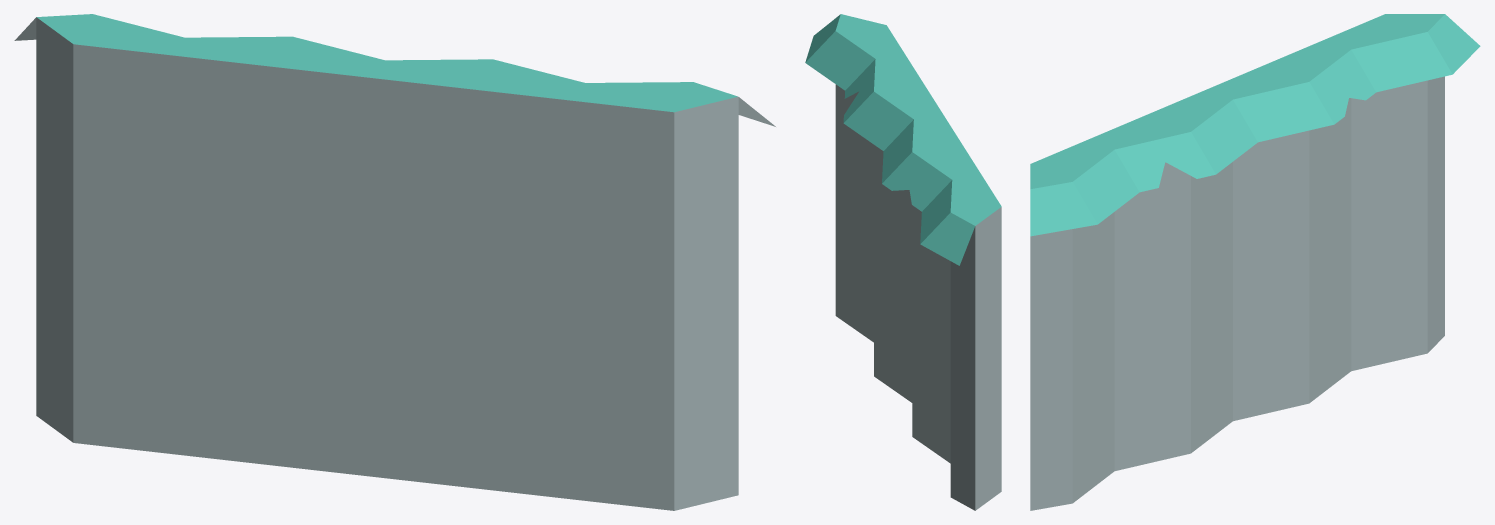
File: cliff_topDiagonal_stone.glb
3 renders of one model, left to right at view 1: azimuth 30°, elevation 25°; view 2: azimuth 150°, elevation 25°; view 3: azimuth 270°, elevation 25°, orthographic. The views are drawn at different scales.
Parts seen in each view (by area): view 1: cliff_topDiagonal_stone; view 2: cliff_topDiagonal_stone; view 3: cliff_topDiagonal_stone.
Boxes of the visible parts, bbox=[...] form: cliff_topDiagonal_stone: bbox=[14, 14, 775, 510]; cliff_topDiagonal_stone: bbox=[805, 14, 1001, 510]; cliff_topDiagonal_stone: bbox=[1030, 14, 1480, 510].
Size of the model in its own units: 1.27 by 1 by 1.27.
